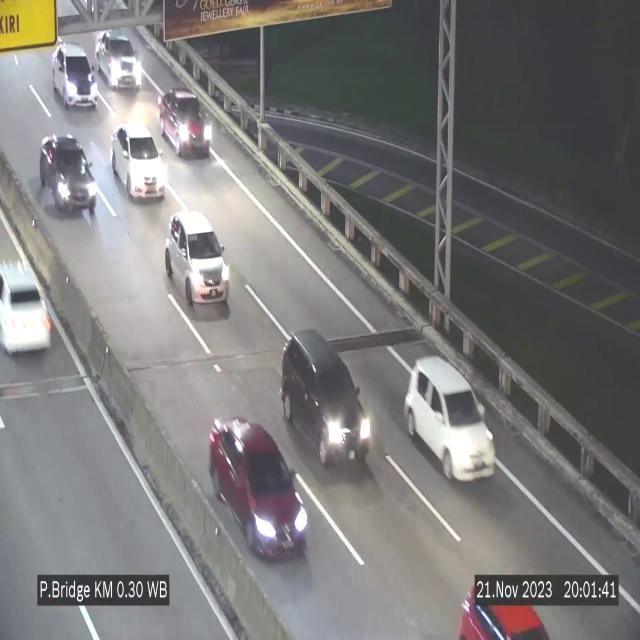Car: (209, 415, 309, 557), (280, 328, 374, 473), (404, 356, 496, 481), (0, 247, 59, 364), (165, 211, 230, 313), (458, 573, 552, 640), (39, 134, 97, 224), (157, 84, 215, 164), (111, 124, 167, 200), (48, 38, 102, 111), (96, 29, 142, 89)
